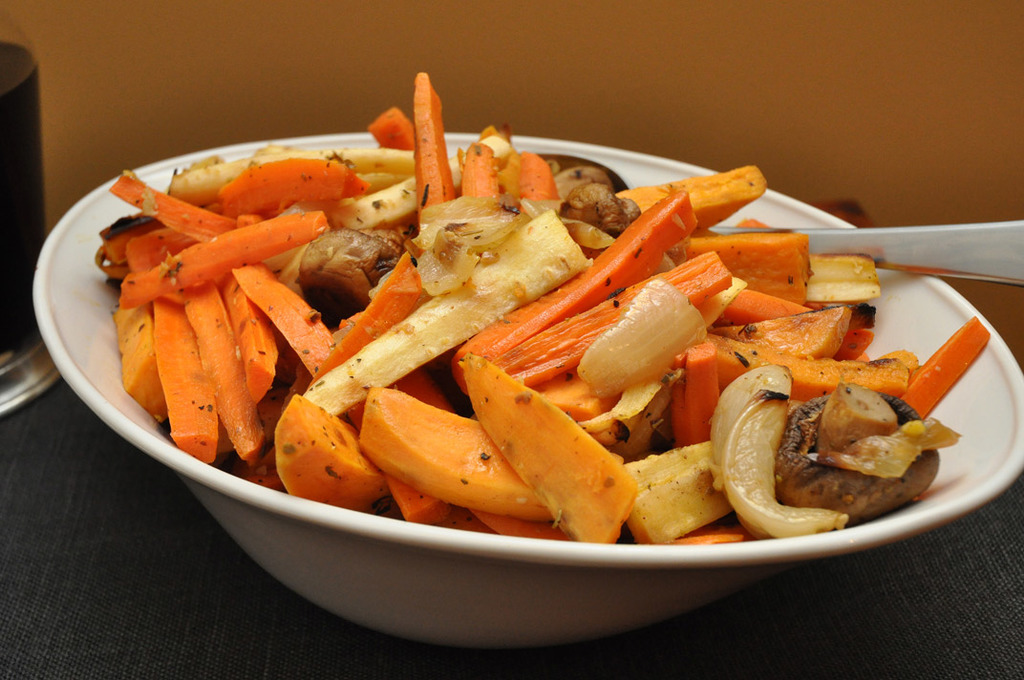Carrot: (95, 70, 992, 545)
